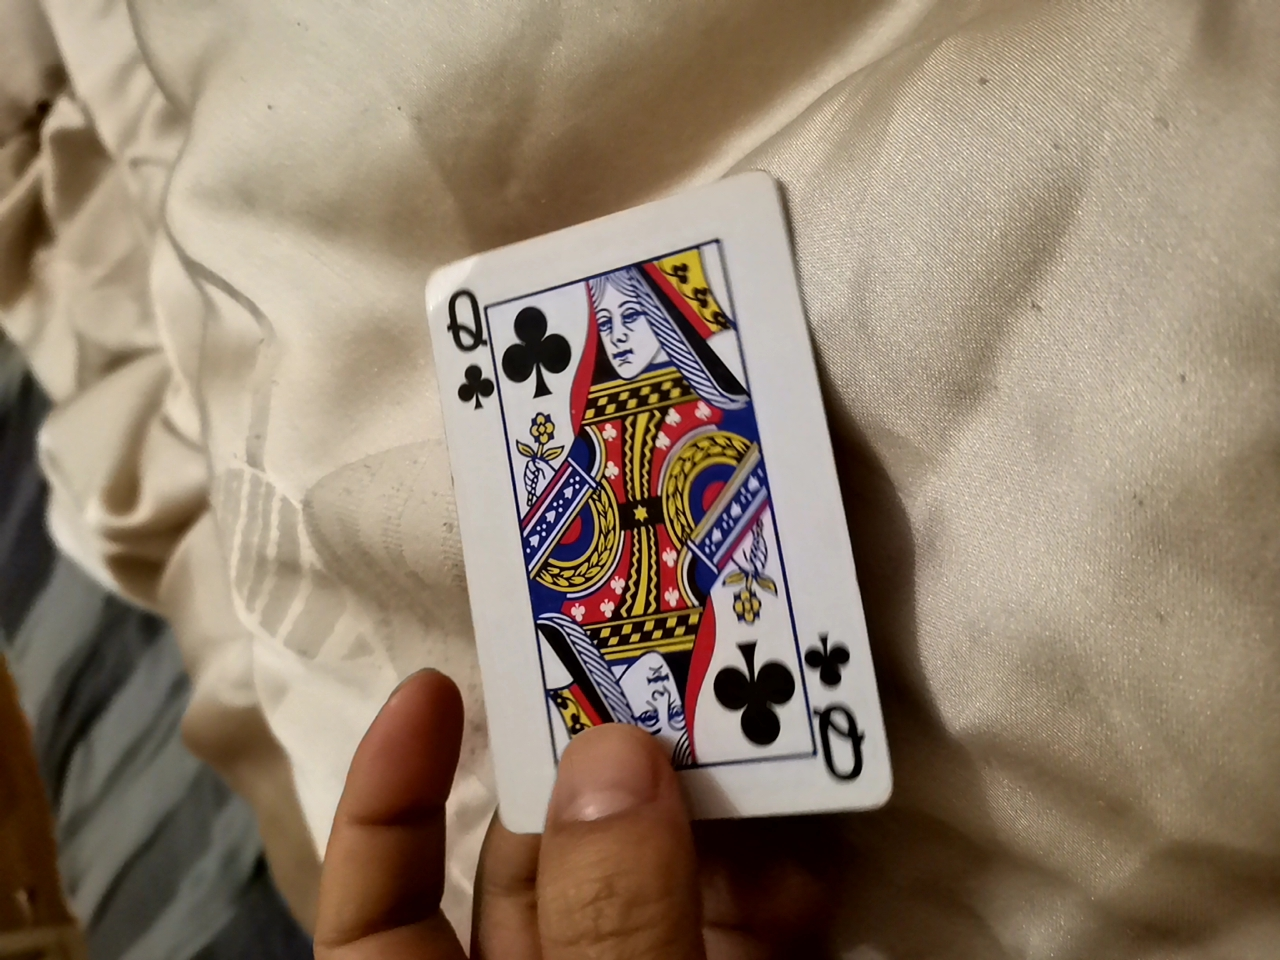mh q: (455, 166, 937, 828)
